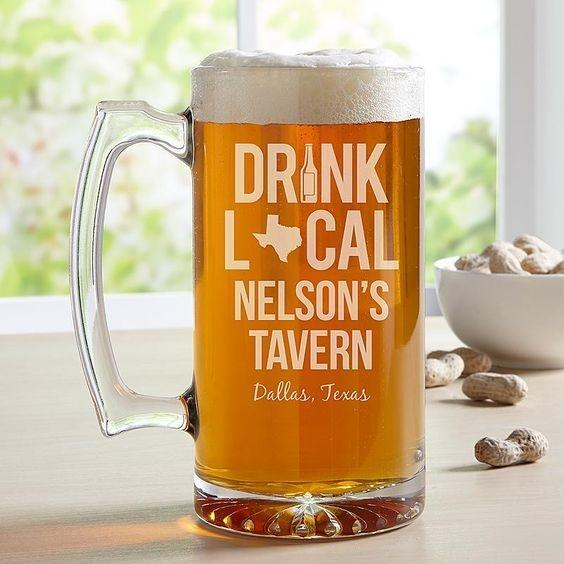glass-mug: (61, 42, 432, 544)
